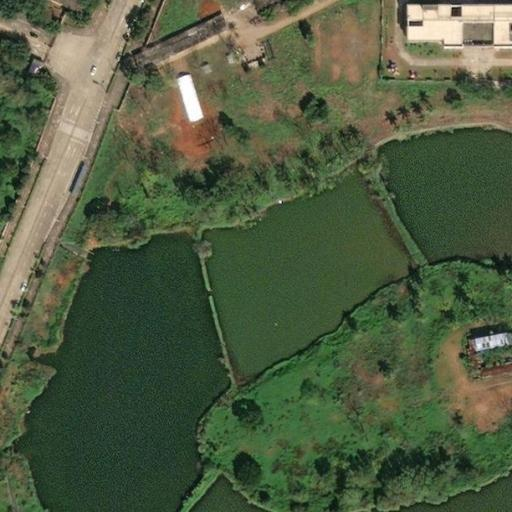building: (397, 1, 512, 49), (153, 6, 219, 55), (172, 68, 205, 121), (120, 36, 162, 69), (468, 329, 512, 352), (289, 12, 324, 37), (20, 52, 47, 80), (198, 43, 215, 64), (225, 5, 241, 21), (214, 10, 229, 23)
